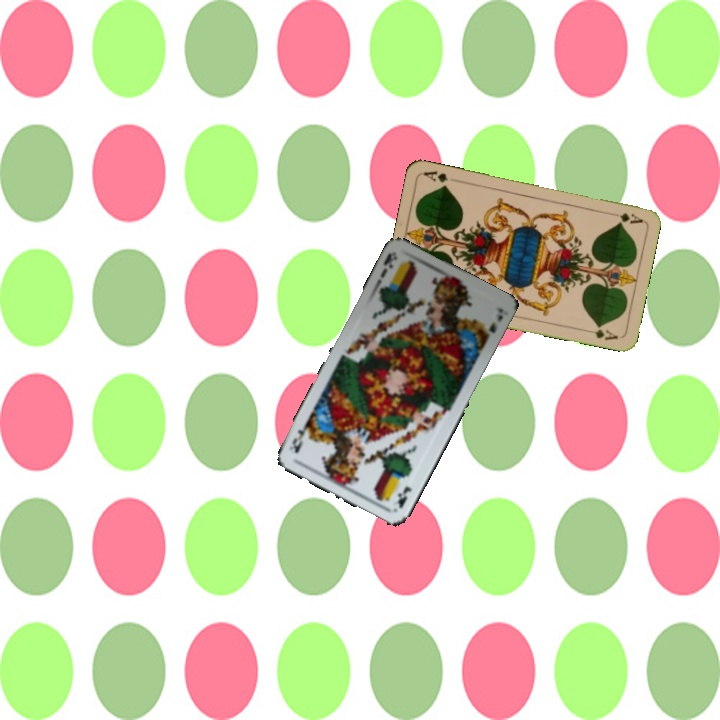EK: (376, 249, 400, 280), (394, 482, 414, 510)
GA: (616, 209, 645, 226)
